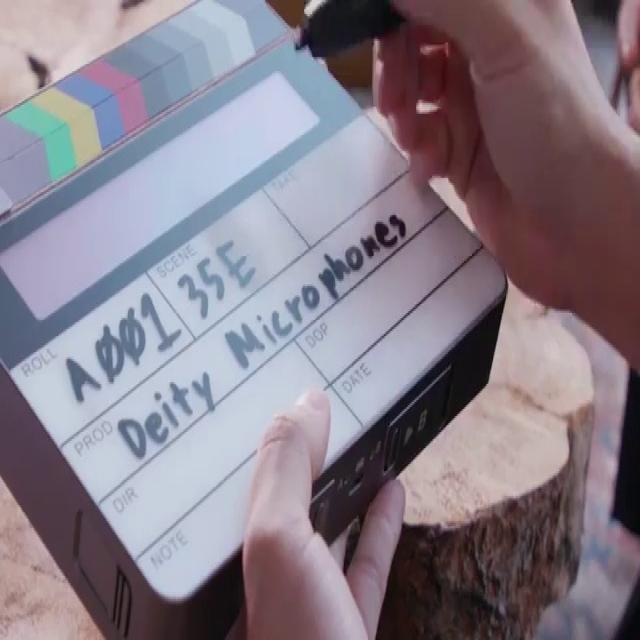Clapperboard: (0, 0, 506, 638)
